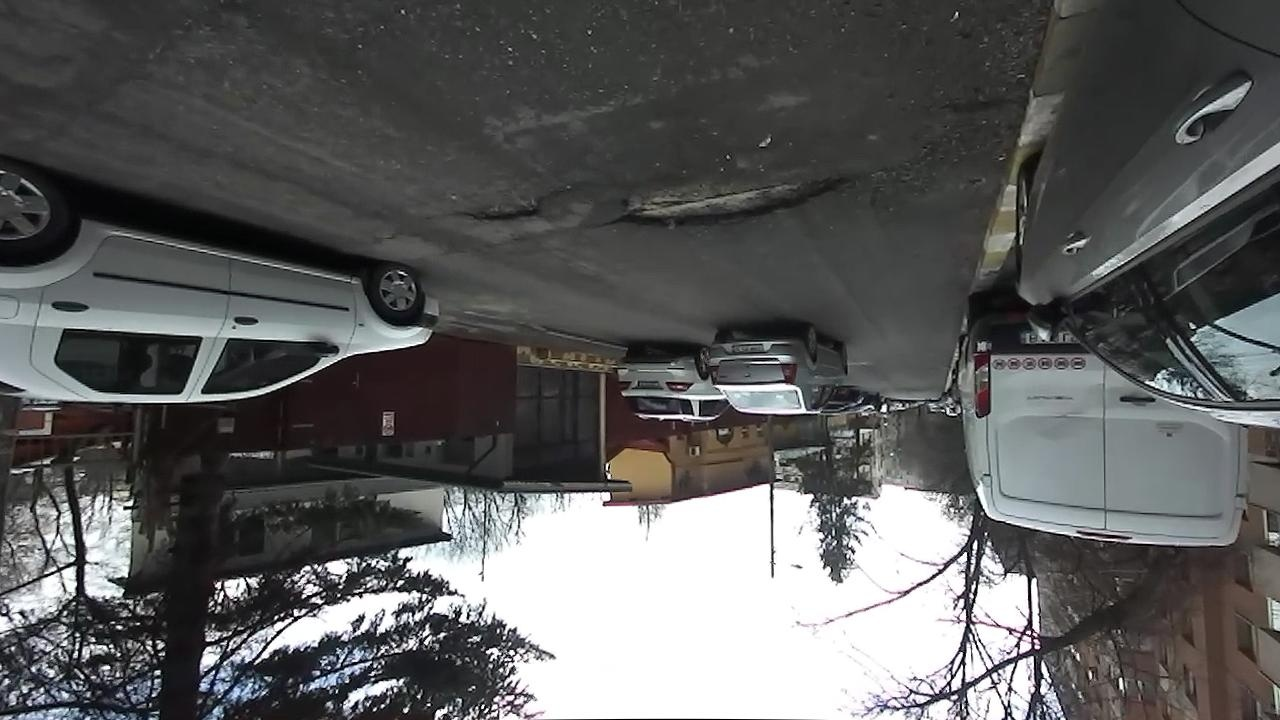pothole: (605, 162, 865, 235), (455, 189, 559, 226)
